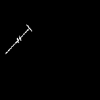treble_crochet: (6, 26, 30, 52)
